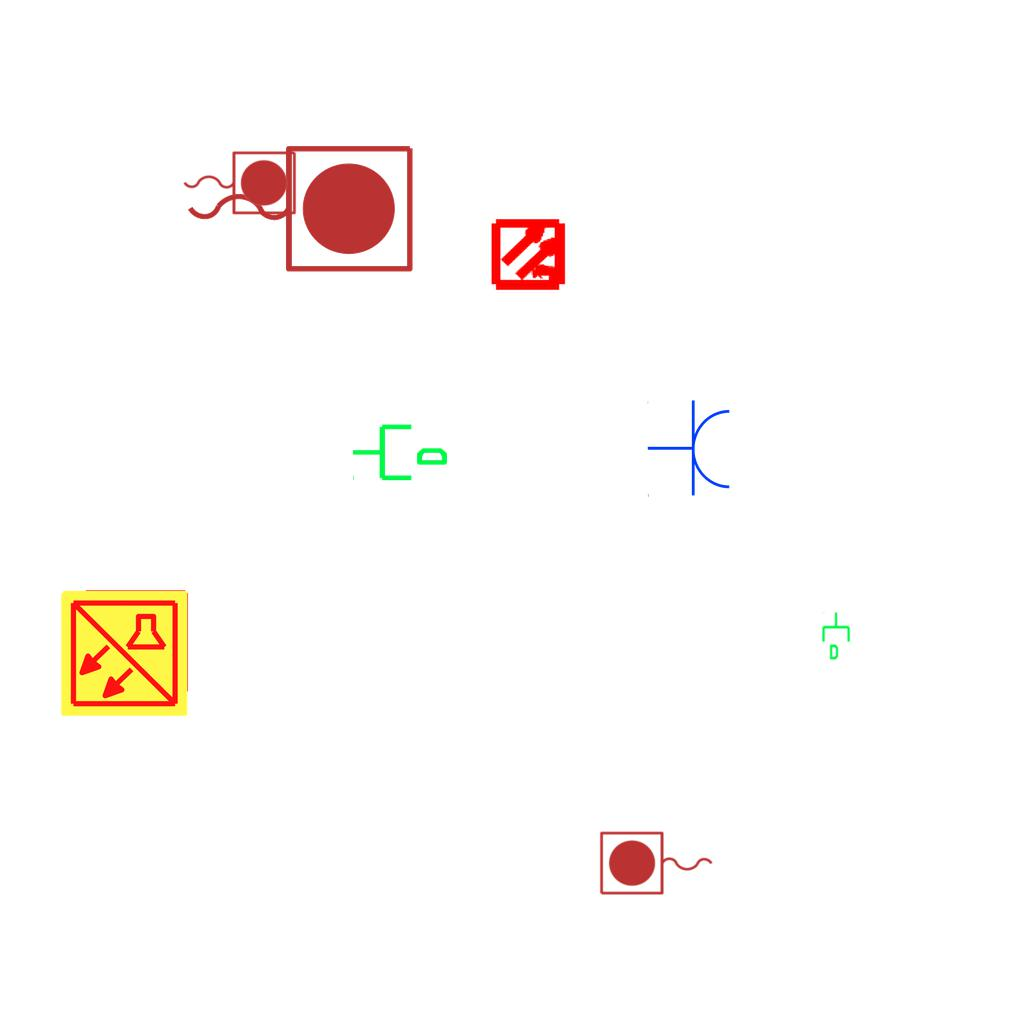Datenanschluss_einfach: (350, 416, 450, 485), (820, 611, 854, 661)
OKW_Multisensormelder_(Kombination_optischer_Rauch-Kahlenmonoxid_Waerme-Melder): (58, 587, 190, 719)
OT_Multisensormelder_(Kombination_RMO_WMD): (474, 198, 587, 311)
Schukosteckdose_einfach: (647, 399, 734, 499)
Zugtaster: (177, 135, 421, 279), (596, 828, 718, 900), (178, 146, 300, 218)
